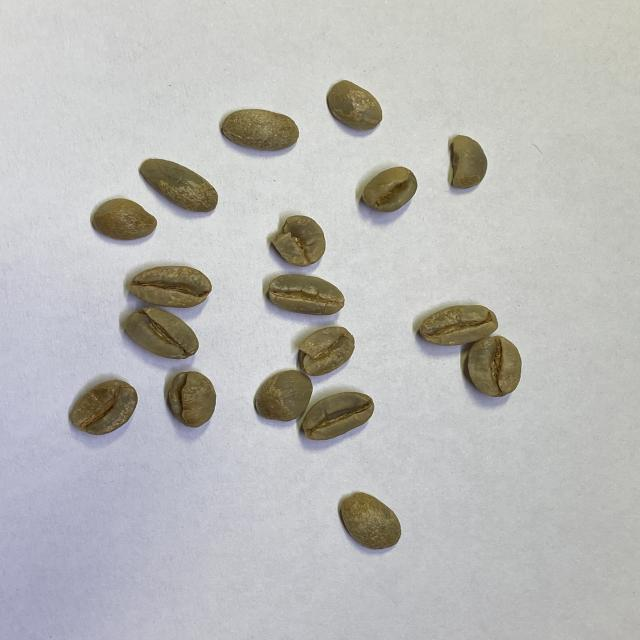bad: (295, 326, 357, 376), (272, 215, 326, 267), (168, 372, 216, 428), (448, 133, 487, 190)
good: (136, 158, 218, 212), (338, 491, 402, 551), (123, 309, 198, 360), (70, 380, 138, 434), (300, 392, 374, 441), (466, 335, 522, 397), (130, 266, 212, 308), (222, 108, 298, 152), (418, 305, 500, 344), (268, 275, 345, 316), (254, 368, 312, 422), (327, 79, 382, 133), (92, 198, 156, 242), (364, 167, 417, 213)
